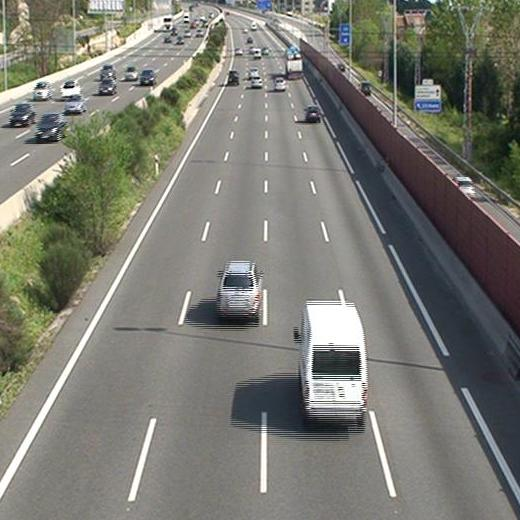car: (214, 262, 262, 318), (305, 105, 320, 122), (226, 70, 239, 87), (273, 76, 284, 90), (252, 76, 264, 87), (247, 68, 258, 78)
truck: (286, 50, 304, 79)
van: (295, 302, 368, 422)
